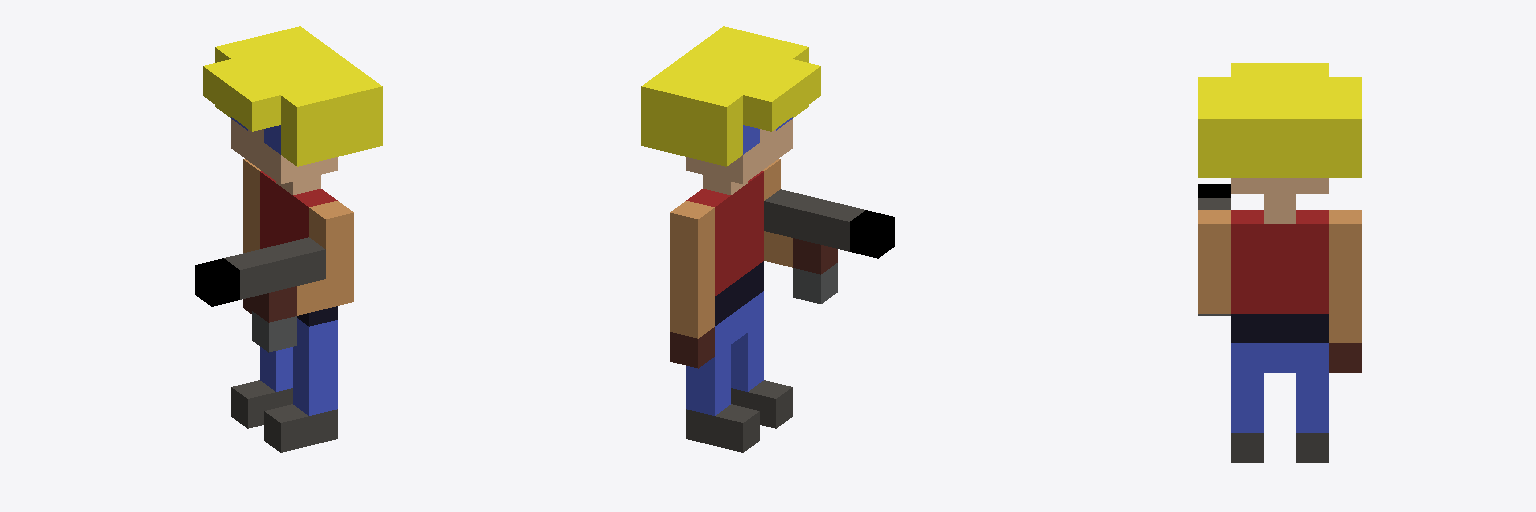
The picture shows the model from 3 angles: view 1: azimuth 30°, elevation 25°; view 2: azimuth 150°, elevation 25°; view 3: azimuth 270°, elevation 25°; orthographic projection.
Visible parts, largest first — view 1: object 1; view 2: object 1; view 3: object 1.
Boxes of the visible parts, <box> form: object 1: <box>195,26,382,452</box>; object 1: <box>641,26,894,452</box>; object 1: <box>1198,63,1361,462</box>.
Bounding box in the file's own units: 0.6 × 1.2 × 0.5.
Materials: 1 (1 with a texture image).